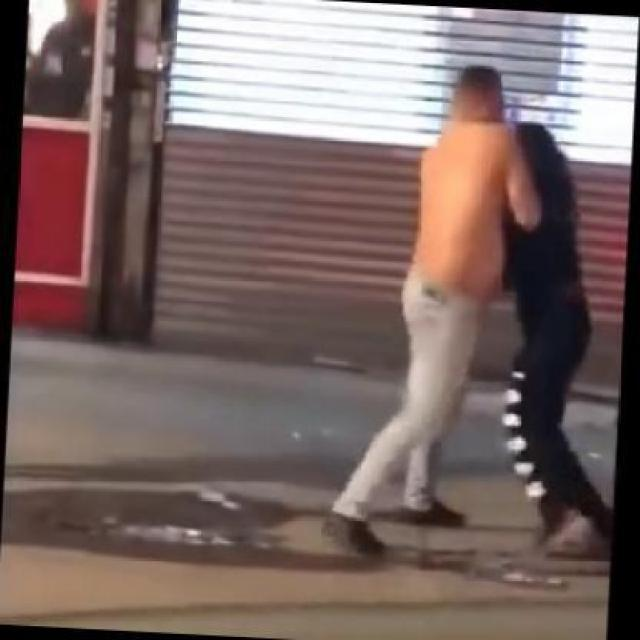fight: (346, 59, 609, 552)
